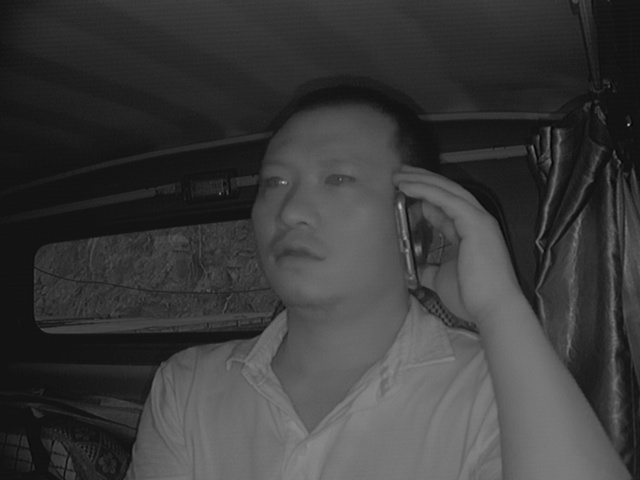hand: (384, 165, 497, 319)
